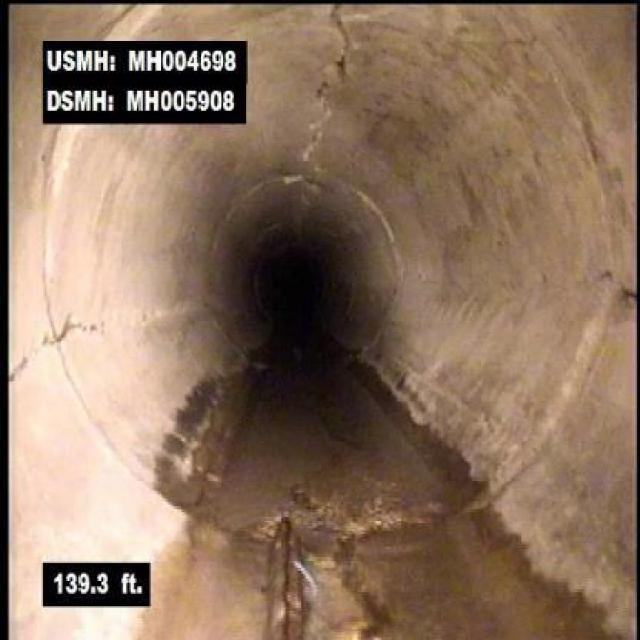Crack: (235, 482, 400, 638), (18, 280, 154, 412), (297, 1, 375, 154), (466, 268, 639, 329)
